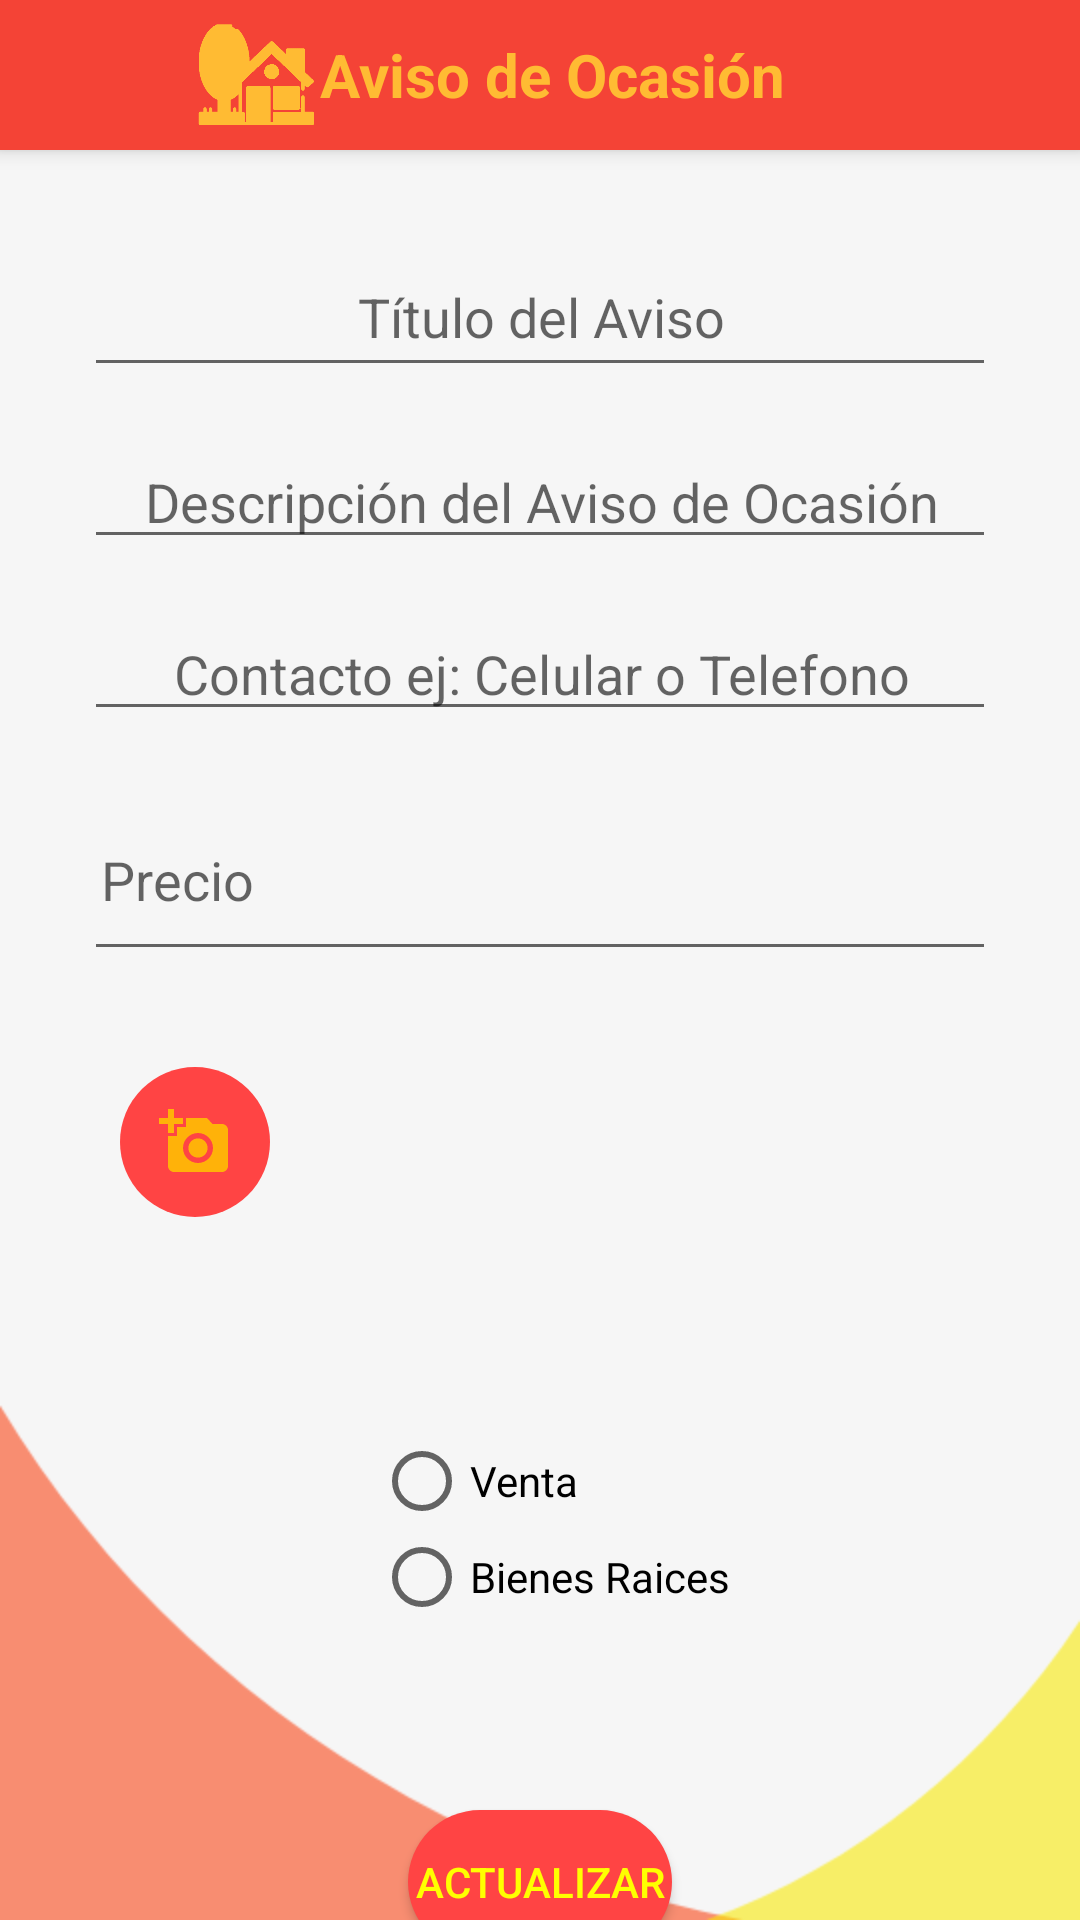

Icon bounding boxes for this 1080 x 1920 phone screenshot, format (x1, y1, x2, y2):
add photo: (120, 1067, 270, 1217)
casa: (198, 24, 314, 125)
